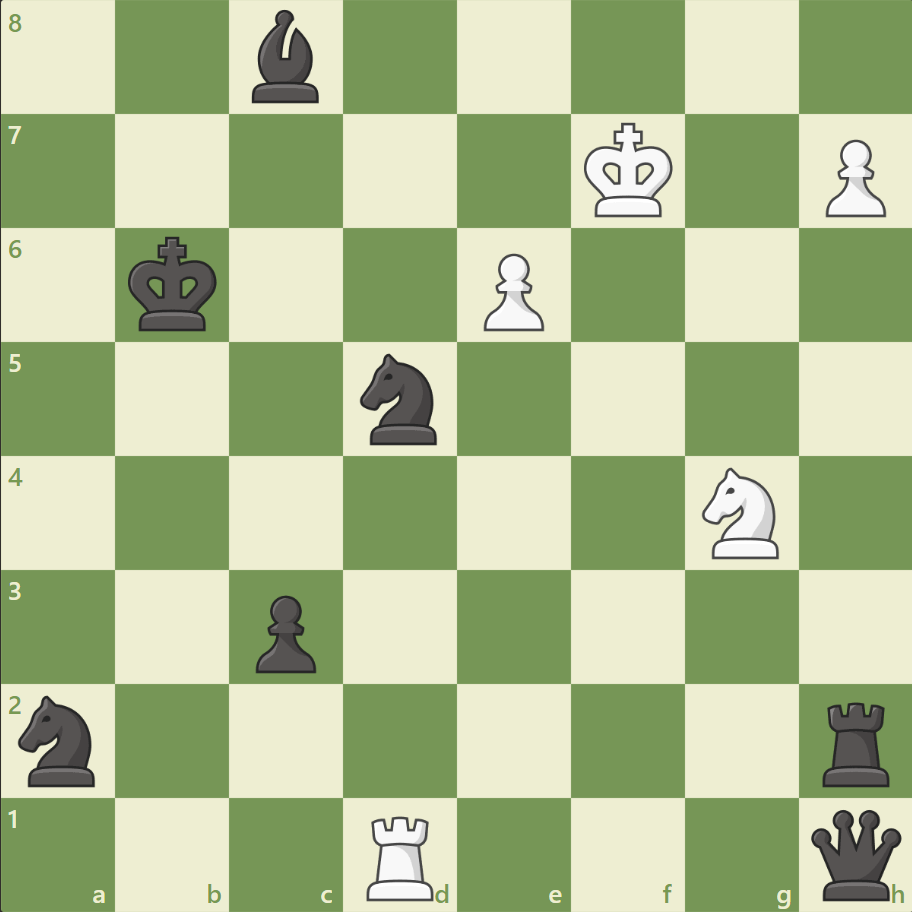K: (579, 117, 679, 225)
N: (692, 461, 789, 564)
P: (474, 246, 549, 337), (815, 132, 889, 223)
R: (360, 806, 442, 904)
b: (244, 6, 328, 109)
k: (124, 231, 224, 339)
n: (351, 348, 449, 450), (11, 688, 108, 791)
p: (247, 586, 322, 677)
q: (805, 804, 904, 903)
r: (814, 693, 897, 790)
